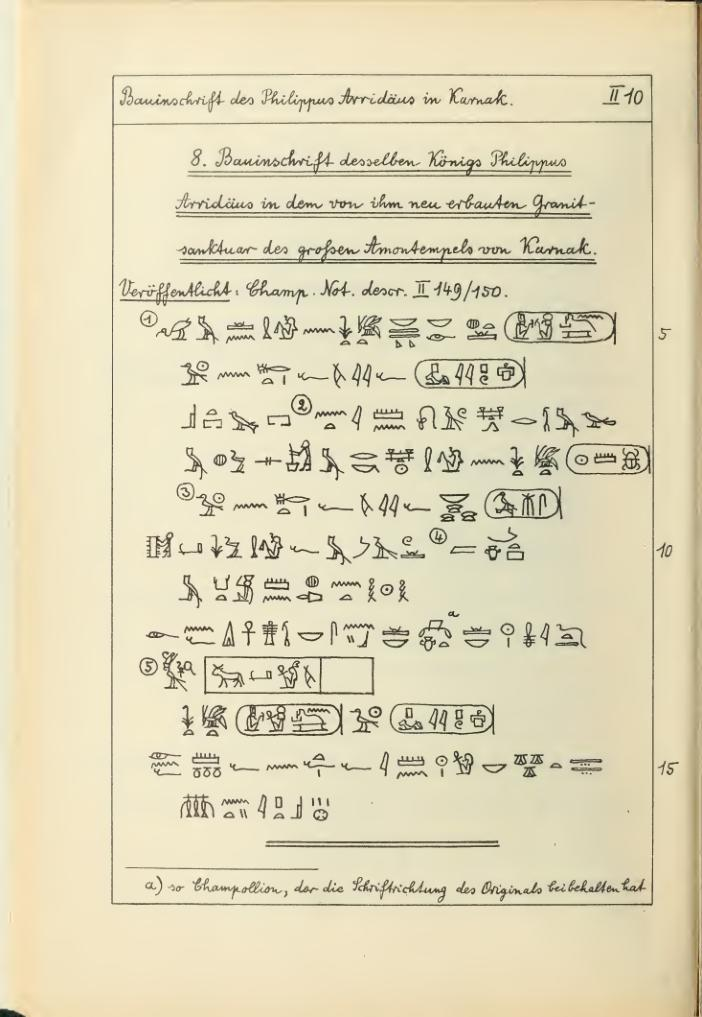circle: (494, 294, 647, 353), (398, 348, 545, 406), (231, 700, 362, 752), (384, 693, 519, 743), (474, 479, 579, 535), (550, 437, 660, 483)
